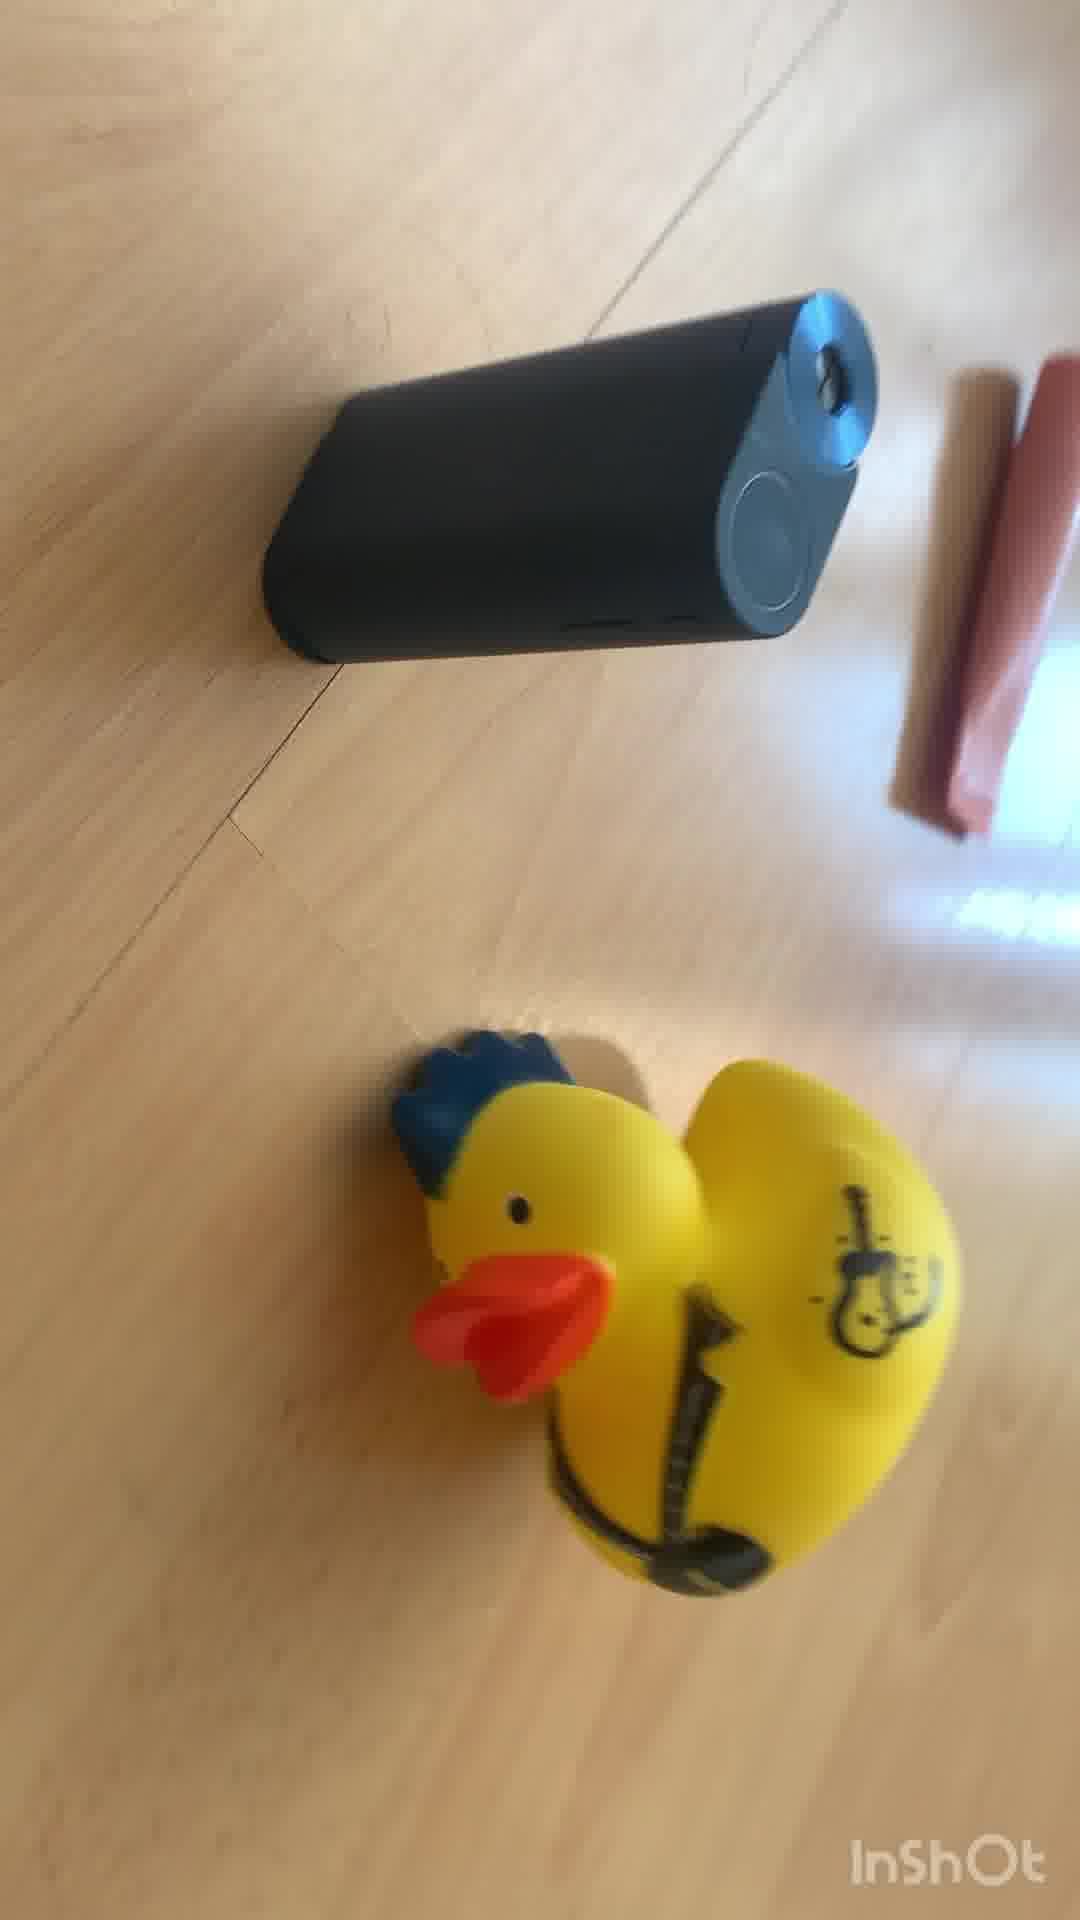duck: (382, 1000, 967, 1613)
glo: (258, 287, 880, 682)
lip balm: (918, 349, 1080, 823)
